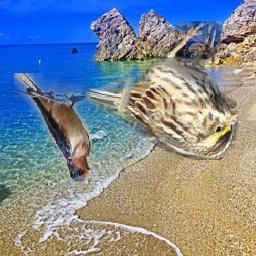Sparrow: (83, 22, 239, 161)
Swallow: (14, 73, 92, 181)
